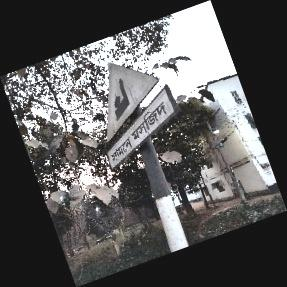Mosque in front: (104, 62, 180, 171)
